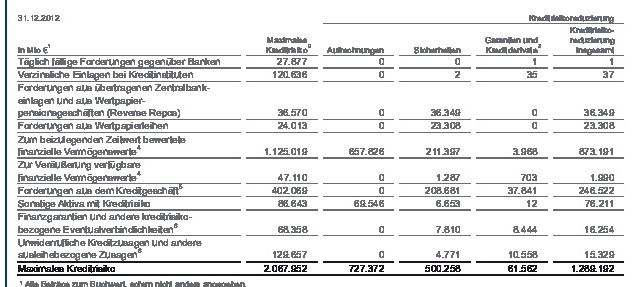table: (0, 0, 642, 287)
